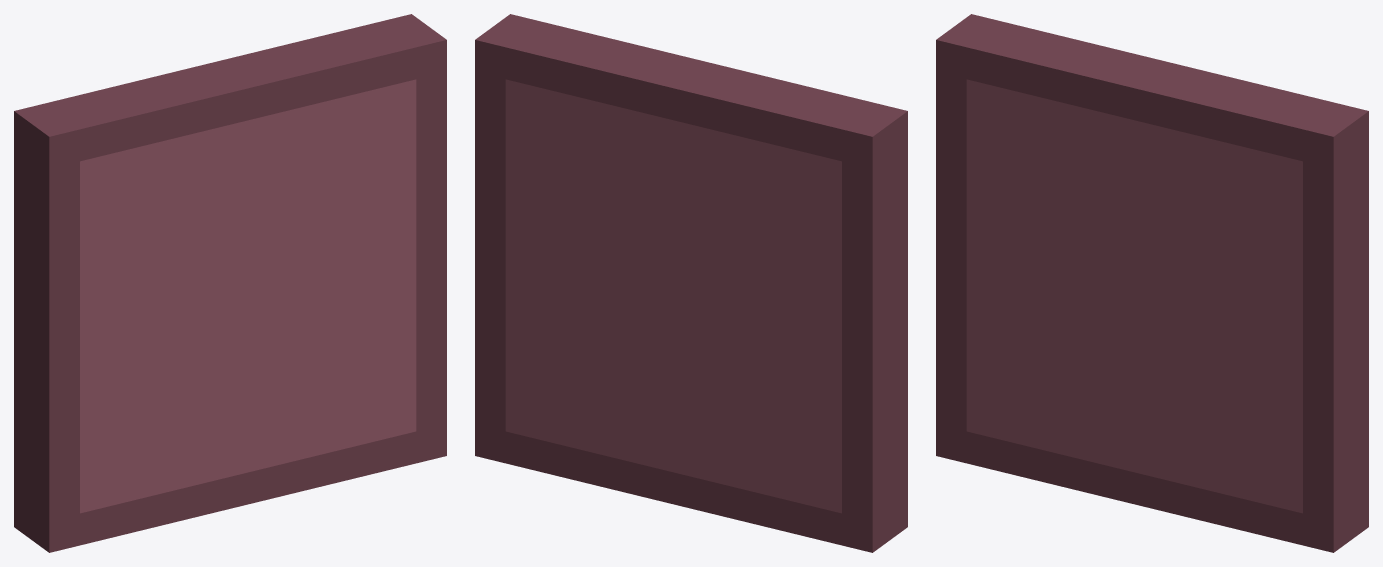
The model's file is tapiz_raida_01.glb.
3 views of the same model, side by side, from view 1: azimuth 30°, elevation 25°; view 2: azimuth 150°, elevation 25°; view 3: azimuth 330°, elevation 25° (orthographic).
Visible parts, largest first — view 1: tapiz_raida; view 2: tapiz_raida; view 3: tapiz_raida.
Part boxes in pixels (x1=…): tapiz_raida: x1=14, y1=14, x2=446, y2=552; tapiz_raida: x1=475, y1=14, x2=907, y2=552; tapiz_raida: x1=936, y1=14, x2=1368, y2=552.
Size of the model in its own units: 1 by 1 by 0.1538.
